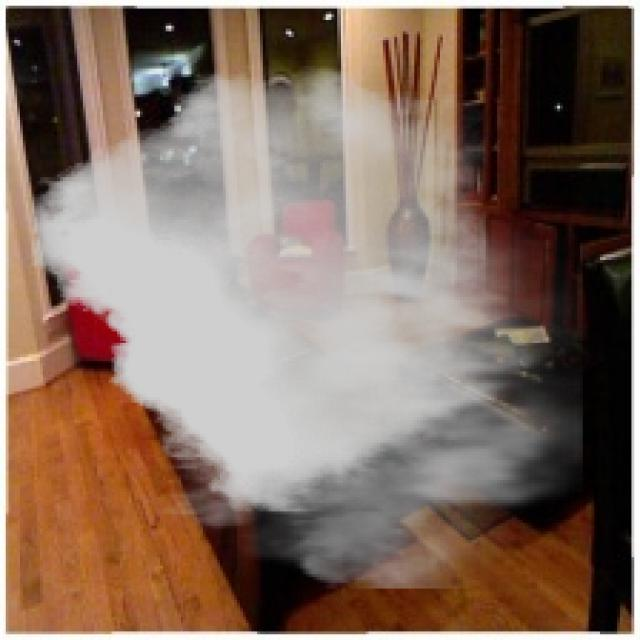smoke: (31, 66, 583, 588)
